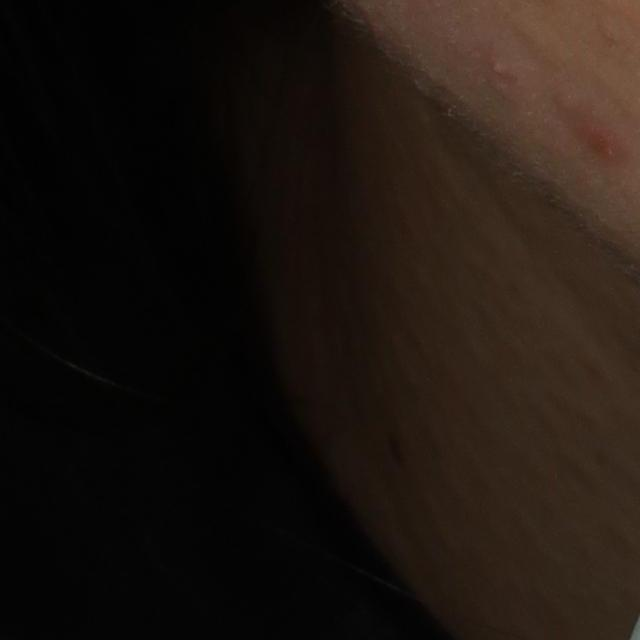papule: (569, 119, 633, 162), (487, 58, 507, 79)
